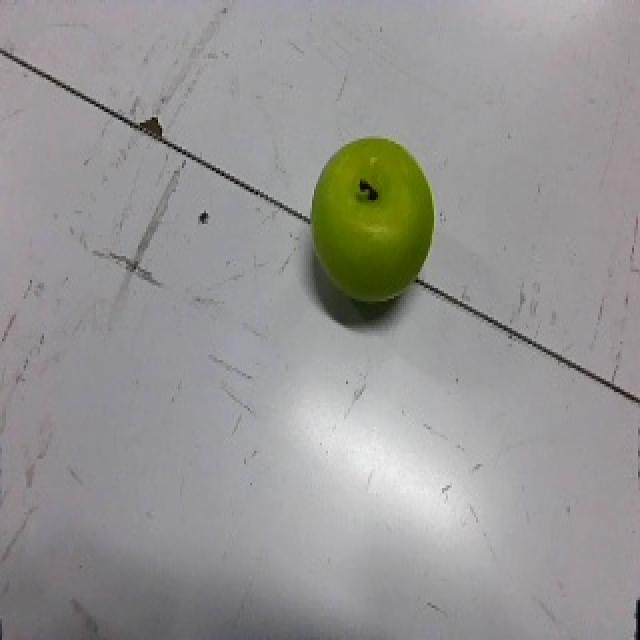apple: (297, 134, 437, 326)
